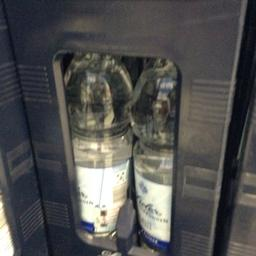water: (62, 52, 130, 236), (127, 56, 176, 249)
